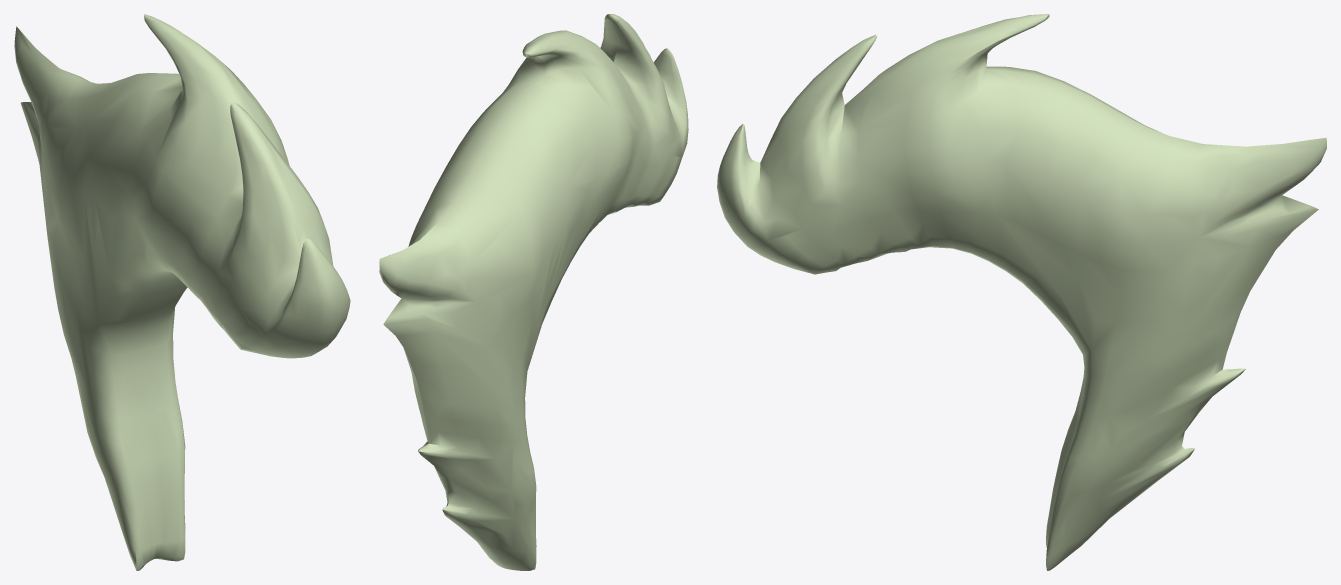
File: Mane_13.fbx
3 views of the same model, side by side, from view 1: azimuth 30°, elevation 25°; view 2: azimuth 150°, elevation 25°; view 3: azimuth 270°, elevation 25° (orthographic). The views are drawn at different scales.
Parts seen in each view (by area): view 1: Mane_13; view 2: Mane_13; view 3: Mane_13.
Boxes of the visible parts, left/top/right/bottom form: Mane_13: left=14, top=14, right=350, bottom=570; Mane_13: left=379, top=14, right=688, bottom=570; Mane_13: left=717, top=14, right=1326, bottom=570.
Bounding box in the file's own units: 62.44 × 250 × 255.
